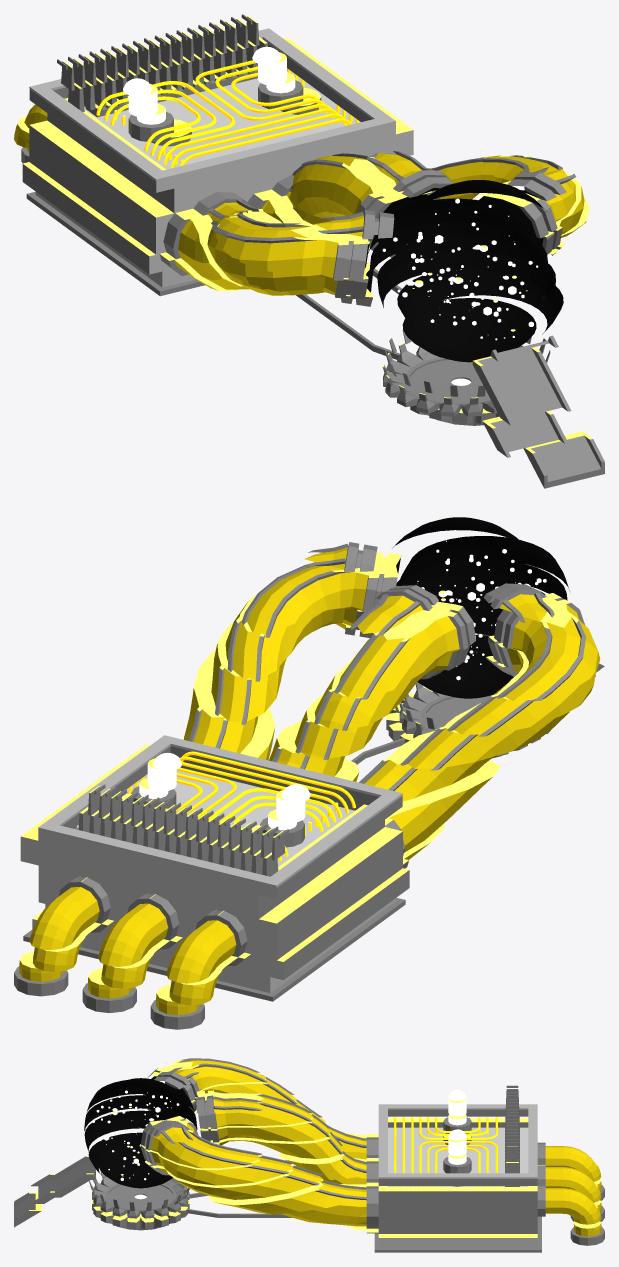
Rendered from ei_hab_chicken_universe_glitch.glb.
The picture shows the model from 3 angles, top to bottom: view 1: azimuth 30°, elevation 25°; view 2: azimuth 150°, elevation 25°; view 3: azimuth 270°, elevation 25°; orthographic projection. The views are drawn at different scales.
Size of the model in its own units: 10.76 by 6.23 by 24.43.
